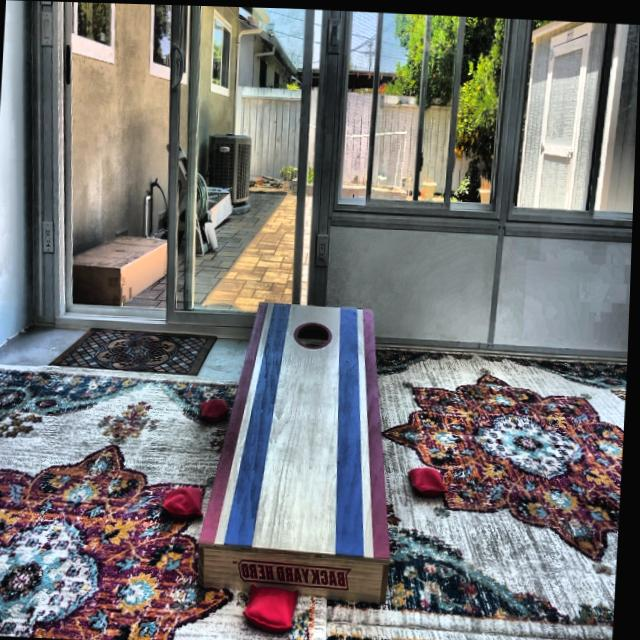board: (242, 300, 379, 551)
hole: (296, 318, 334, 347)
red-bean-bag: (247, 582, 303, 632), (164, 484, 208, 516), (410, 462, 452, 492), (202, 392, 233, 421)
